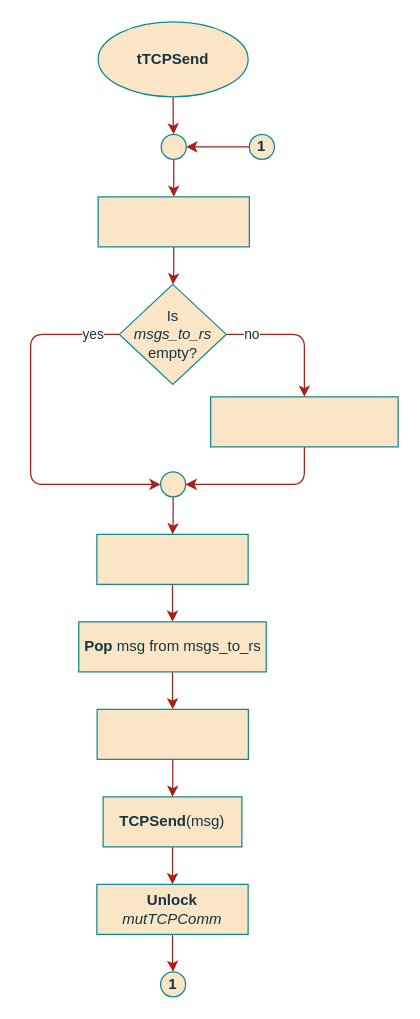
This 420x1019 diagram has some shape labels left out. The shapes that lost their labels are listed below. From the top down, each one's centre as x and y in pixels, then its label:
the point at 173,221: Lock mutTCPSend
the point at 303,421: Wait condTCPSend
the point at 172,558: Unlock mutTCPSend
the point at 172,733: Lock mutTCPComm
